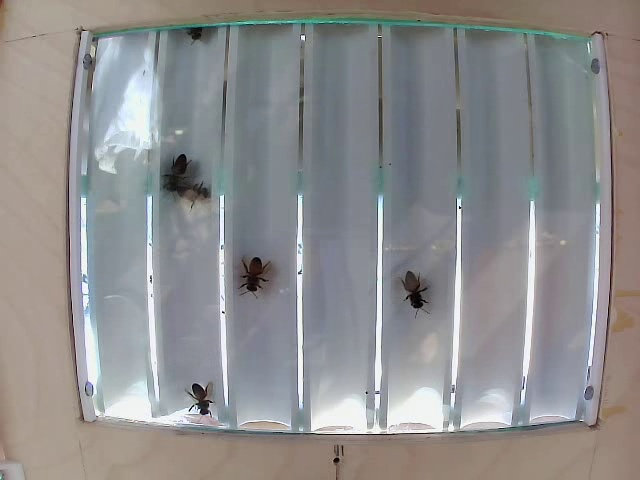bee: (173, 370, 224, 423), (389, 265, 429, 326), (243, 256, 278, 310), (161, 158, 199, 194), (178, 182, 211, 221), (182, 15, 206, 53)
